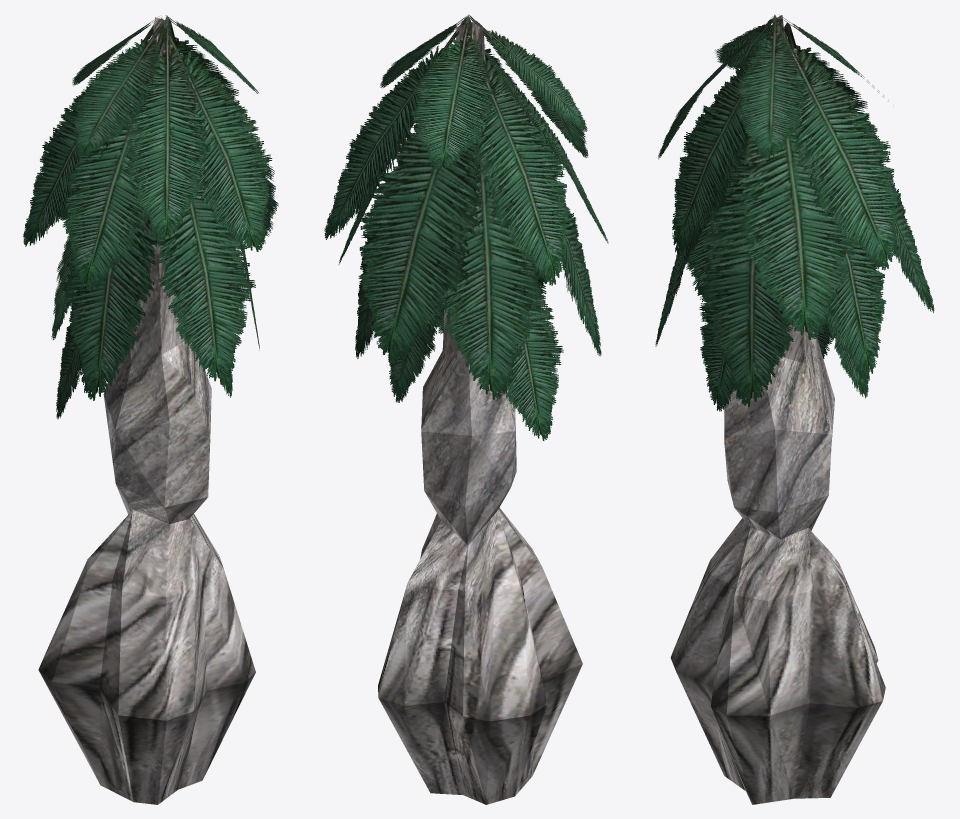
Rendered from decd_boffa_big_l1.fbx.
3 views of the same model, side by side, from view 1: azimuth 30°, elevation 25°; view 2: azimuth 150°, elevation 25°; view 3: azimuth 270°, elevation 25° (orthographic). The views are drawn at different scales.
Visible parts, largest first — view 1: mesh_node; view 2: mesh_node; view 3: mesh_node.
Boxes of the visible parts, x1,y1,x2,y2 form: mesh_node: (23, 15, 278, 804); mesh_node: (324, 14, 608, 804); mesh_node: (655, 15, 934, 804).
Bounding box in the file's own units: 6.56 × 19.65 × 6.81.
